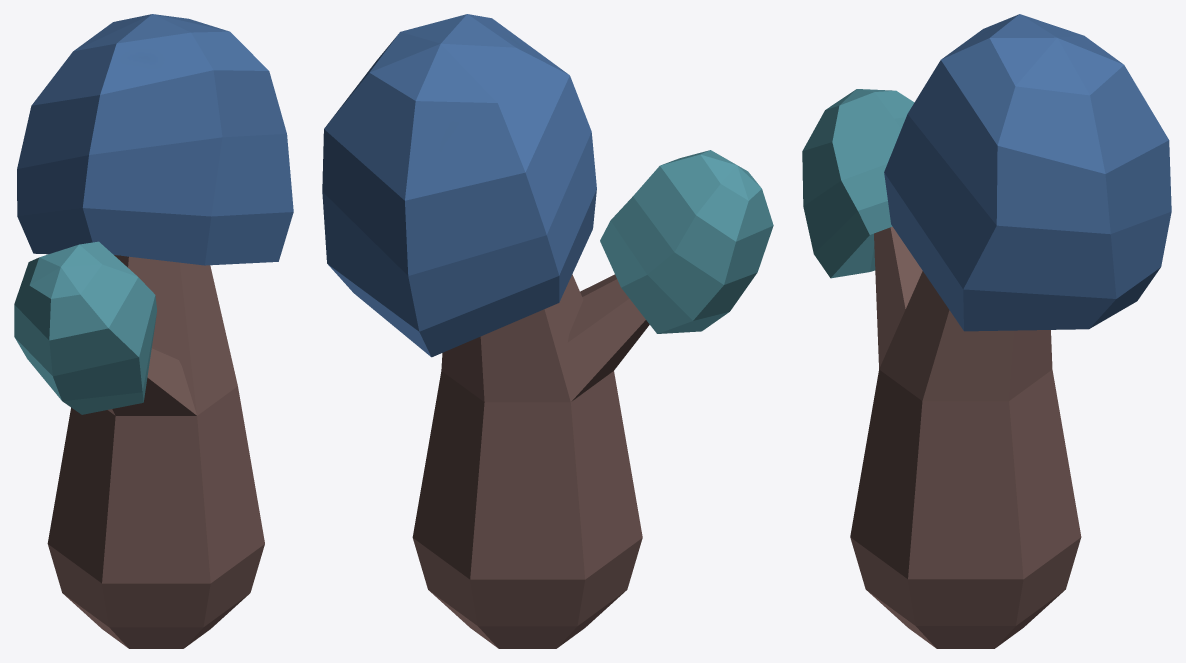
File: tinyMushroom02.gltf
The picture shows the model from 3 angles, left to right: view 1: azimuth 30°, elevation 25°; view 2: azimuth 150°, elevation 25°; view 3: azimuth 270°, elevation 25°; orthographic projection. The views are drawn at different scales.
Visible parts, largest first — view 1: Sphere.001, Sphere, Sphere.002; view 2: Sphere.001, Sphere, Sphere.002; view 3: Sphere.001, Sphere, Sphere.002.
Part boxes in pixels (x1=…): Sphere.001: x1=17, y1=14, x2=293, y2=265; Sphere: x1=47, y1=255, x2=264, y2=648; Sphere.002: x1=14, y1=241, x2=156, y2=414; Sphere.001: x1=322, y1=14, x2=596, y2=357; Sphere: x1=412, y1=274, x2=649, y2=648; Sphere.002: x1=600, y1=150, x2=773, y2=333; Sphere.001: x1=884, y1=14, x2=1171, y2=331; Sphere: x1=850, y1=226, x2=1081, y2=648; Sphere.002: x1=802, y1=89, x2=914, y2=278.
Bounding box in the file's own units: 1.28 × 2.3 × 1.23.
1 material, 1 textured.
